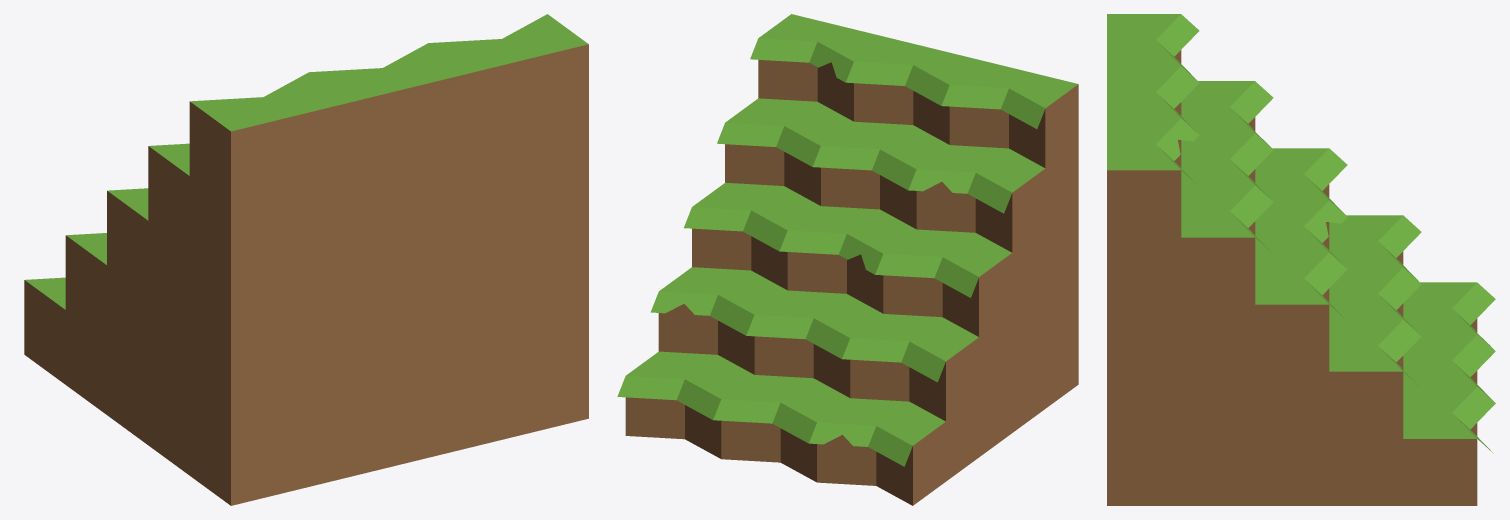
File: cliff_steps_rock.glb
3 renders of one model, left to right at view 1: azimuth 30°, elevation 25°; view 2: azimuth 150°, elevation 25°; view 3: azimuth 270°, elevation 25°, orthographic. The views are drawn at different scales.
Parts seen in each view (by area): view 1: cliff_steps_rock; view 2: cliff_steps_rock; view 3: cliff_steps_rock.
Boxes of the visible parts, x1,y1,x2,y2 form: cliff_steps_rock: [24, 14, 588, 505]; cliff_steps_rock: [617, 14, 1078, 505]; cliff_steps_rock: [1107, 14, 1495, 505].
Size of the model in its own units: 1 by 1 by 1.05.
